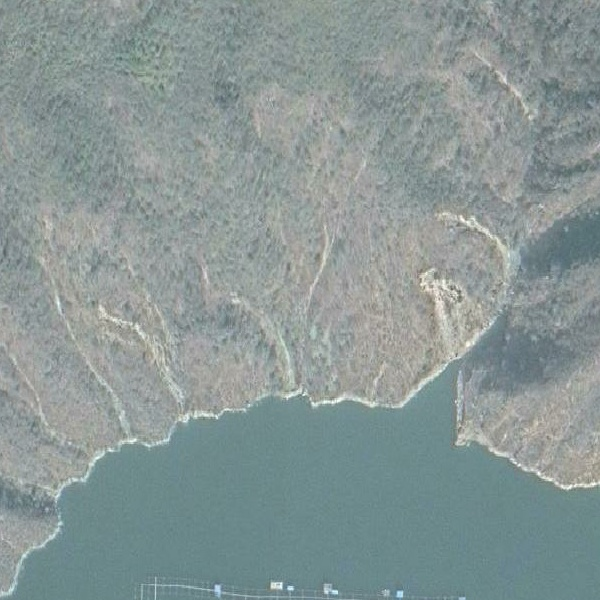slope: (437, 207, 525, 305), (418, 266, 487, 358)
